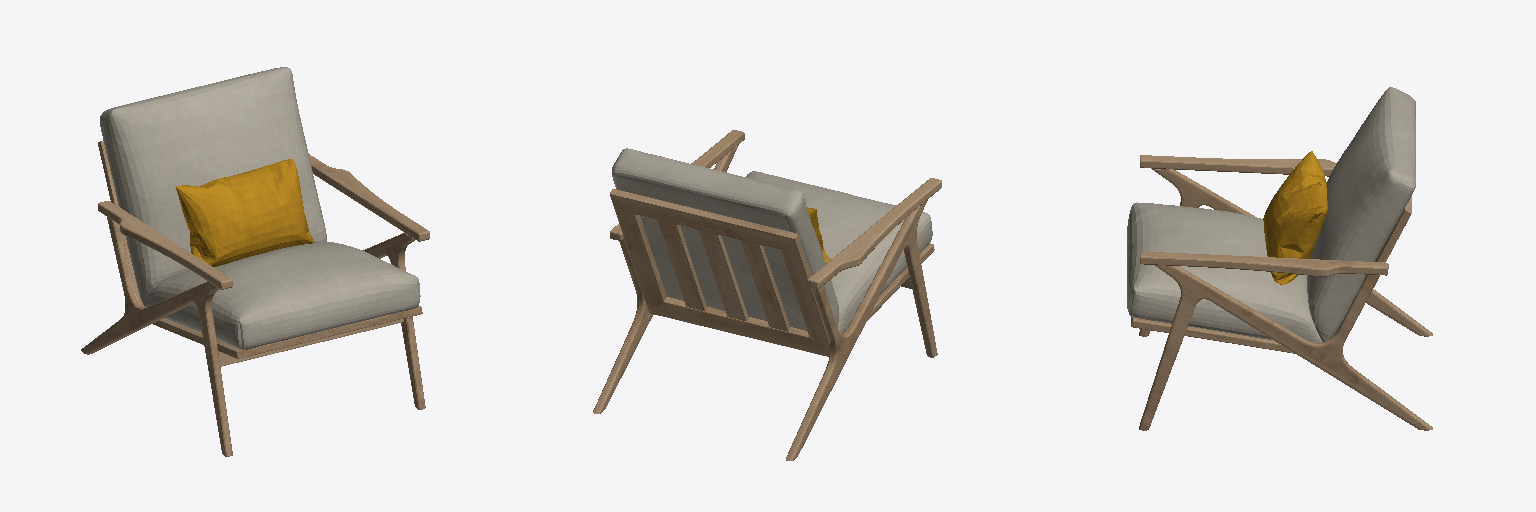
3 views of the same model, side by side, from view 1: azimuth 30°, elevation 25°; view 2: azimuth 150°, elevation 25°; view 3: azimuth 270°, elevation 25° (orthographic).
Bounding box in the file's own units: 0.7723 × 0.826 × 0.9.
1 materials, 1 textured.